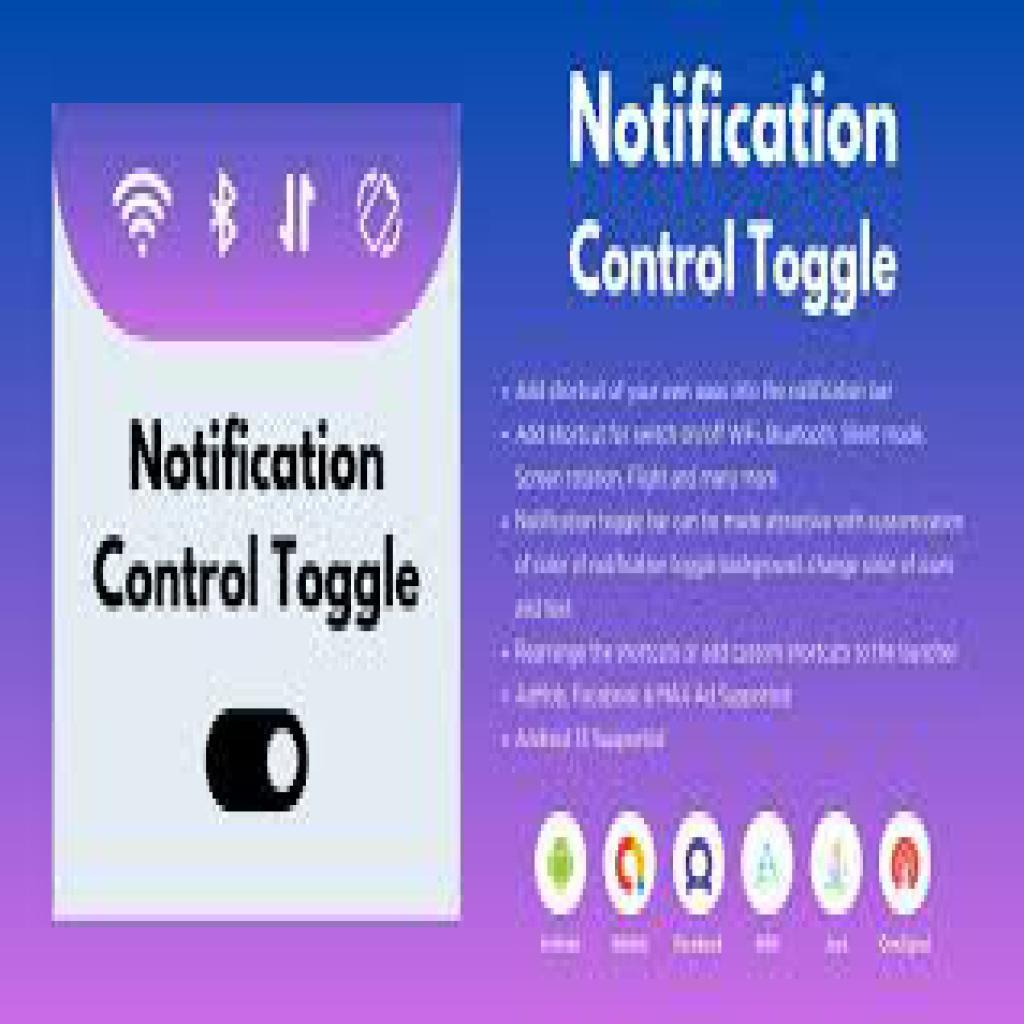switch: (208, 710, 309, 812)
